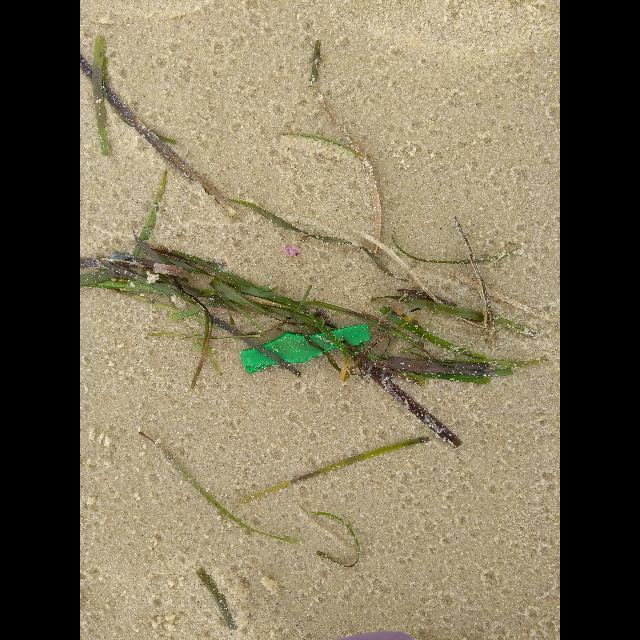Plastic: (240, 324, 370, 374)
